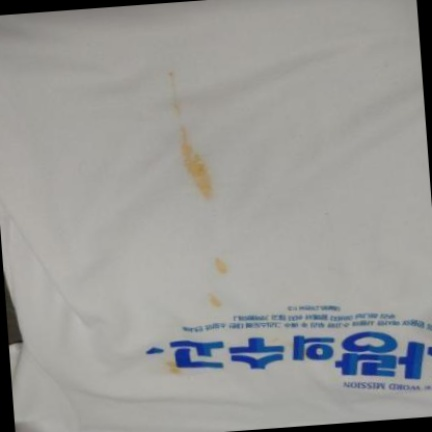kimchi: (173, 135, 216, 204), (166, 62, 179, 115), (205, 293, 221, 311), (163, 361, 180, 376), (174, 125, 185, 144), (218, 259, 232, 273), (272, 336, 281, 348), (284, 350, 293, 359), (288, 339, 292, 345)
